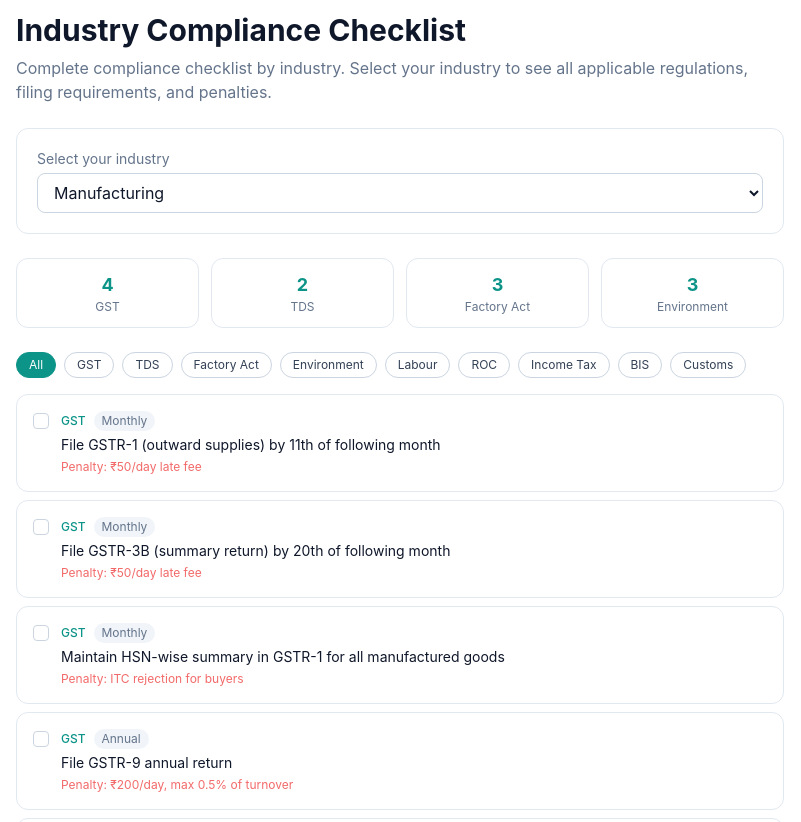
it: IndustryChecklist › switches industry and updates checklist
The width and height of the screenshot is (801, 822).
Select "IT Services" in the dropdown labelled "Select your industry" at [400, 193], box [37,173,763,213]
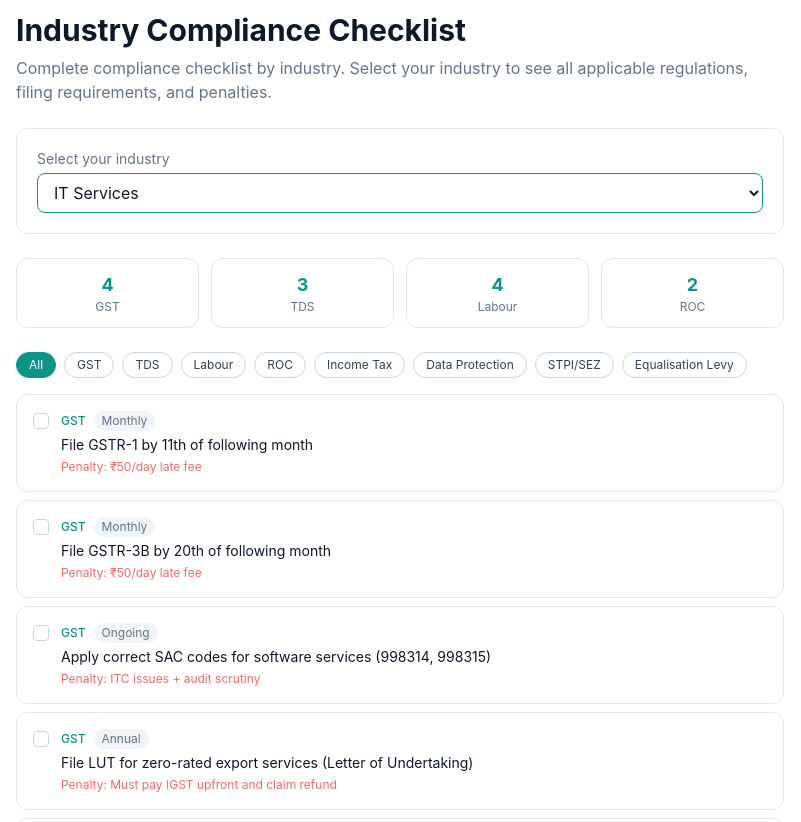
Expected: the number of elements with test id "checklist-item" is 19
